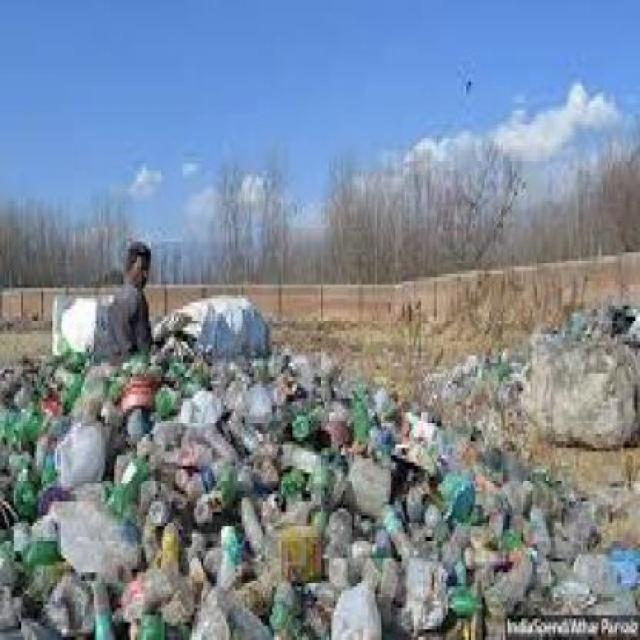garbage: (159, 309, 639, 608), (5, 231, 115, 636), (114, 366, 164, 636)
